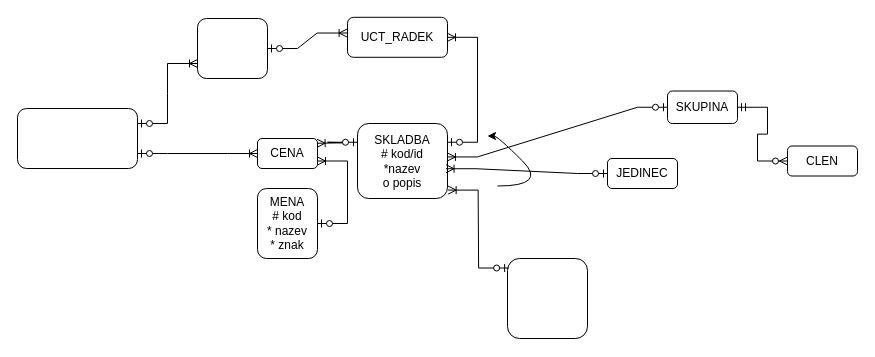
This 875x357 diagram has some shape labels left out. The centre of each missing label's shape, as x and y in pixels:
ALBUM # kod/id * nazev o popis: point 547,298
AUDIOTEKA # kod/id *nazev: point 77,138
UCTENKA # kod/id *datum *sleva: point 232,48
